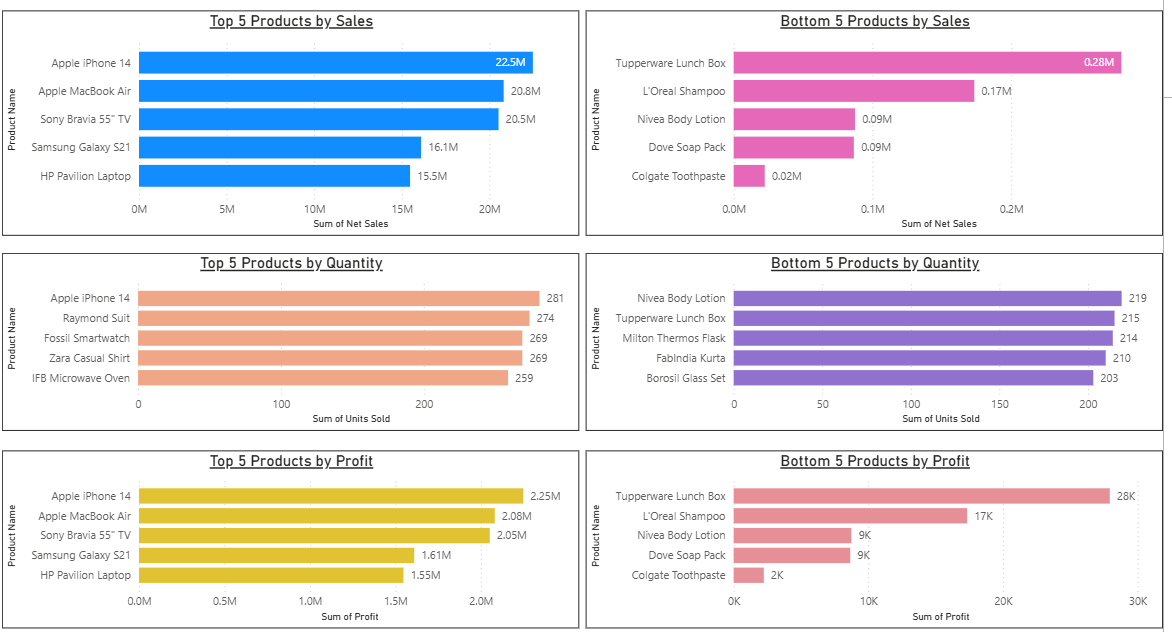

The page's visual inventory and layout, read from the dashboard file:
{"tool":"powerbi","page":{"name":"Top/Bottom 5 Analysis","canvas":[1280,720],"ordinal":0},"visuals":[{"type":"barChart","title":"Top 5 Products by Sales","fields":{"Category":["Dim Product.Product Name"],"Y":["Sum(Fact Table.Net Sales)"]},"box":[5.5,19.2,634,247],"z":0},{"type":"barChart","title":"Bottom 5 Products by Sales","fields":{"Category":["Dim Product.Product Name"],"Y":["Sum(Fact Table.Net Sales)"]},"box":[646.3,18.8,634,247],"z":1000},{"type":"barChart","title":"Top 5 Products by Quantity","fields":{"Category":["Dim Product.Product Name"],"Y":["Sum(Fact Table.Units Sold)"]},"box":[5.5,285.4,634,194.8],"z":2000},{"type":"barChart","title":"Bottom 5 Products by Quantity","fields":{"Category":["Dim Product.Product Name"],"Y":["Sum(Fact Table.Units Sold)"]},"box":[646.3,285.4,634,194.8],"z":3000},{"type":"barChart","title":"Top 5 Products by Profit","fields":{"Category":["Dim Product.Product Name"],"Y":["Sum(Fact Table.Profit)"]},"box":[5.5,502.2,634,194.8],"z":4000},{"type":"barChart","title":"Bottom 5 Products by Profit","fields":{"Category":["Dim Product.Product Name"],"Y":["Sum(Fact Table.Profit)"]},"box":[646.3,502.2,634,194.8],"z":5000}]}

Visuals, with their boxes on the page's 1280x720 design canvas (x1, y1, x2, y2). These are canvas units, not pixel positions in the 1172x632 screenshot, which may show the page scaled, cropped or inside an application window:
"Top 5 Products by Sales" barChart: rect(6, 19, 640, 266)
"Bottom 5 Products by Sales" barChart: rect(646, 19, 1280, 266)
"Top 5 Products by Quantity" barChart: rect(6, 285, 640, 480)
"Bottom 5 Products by Quantity" barChart: rect(646, 285, 1280, 480)
"Top 5 Products by Profit" barChart: rect(6, 502, 640, 697)
"Bottom 5 Products by Profit" barChart: rect(646, 502, 1280, 697)
